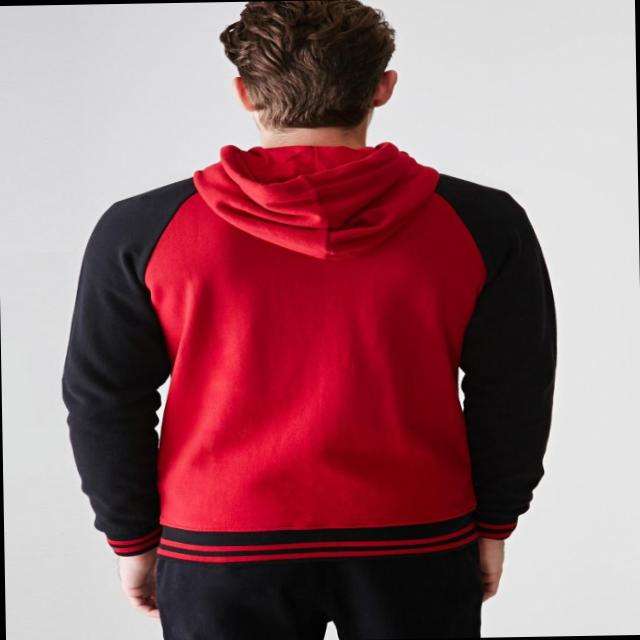Jacket: (52, 127, 570, 566)
